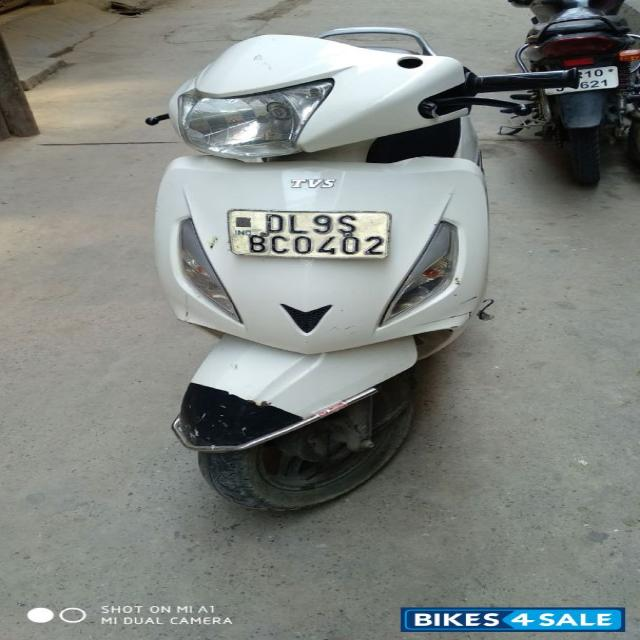license_plate: (226, 208, 391, 259)
